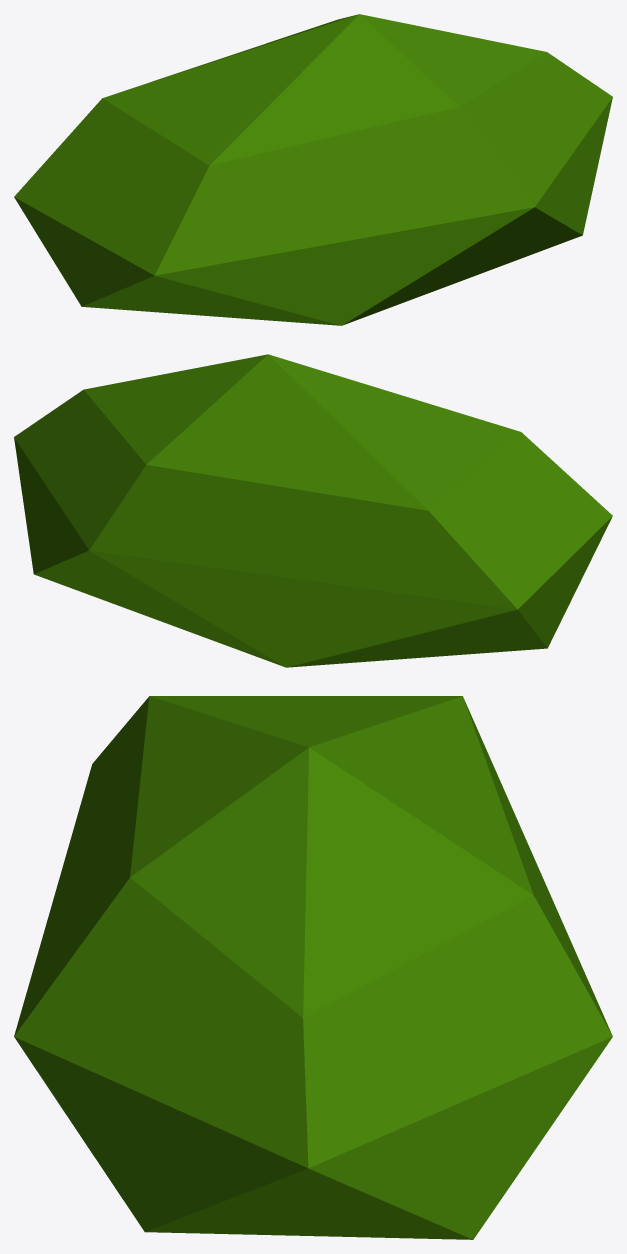
File: Bush2.fbx
3 views of the same model, one above another, from view 1: azimuth 30°, elevation 25°; view 2: azimuth 150°, elevation 25°; view 3: azimuth 270°, elevation 25° (orthographic). The views are drawn at different scales.
Visible parts, largest first — view 1: Icosphere; view 2: Icosphere; view 3: Icosphere.
Part boxes in pixels (x1,y1,x2,y2): Icosphere: (14, 14, 612, 325); Icosphere: (14, 354, 612, 667); Icosphere: (14, 696, 612, 1239).
Bounding box in the file's own units: 1.85 × 0.7794 × 1.11.
